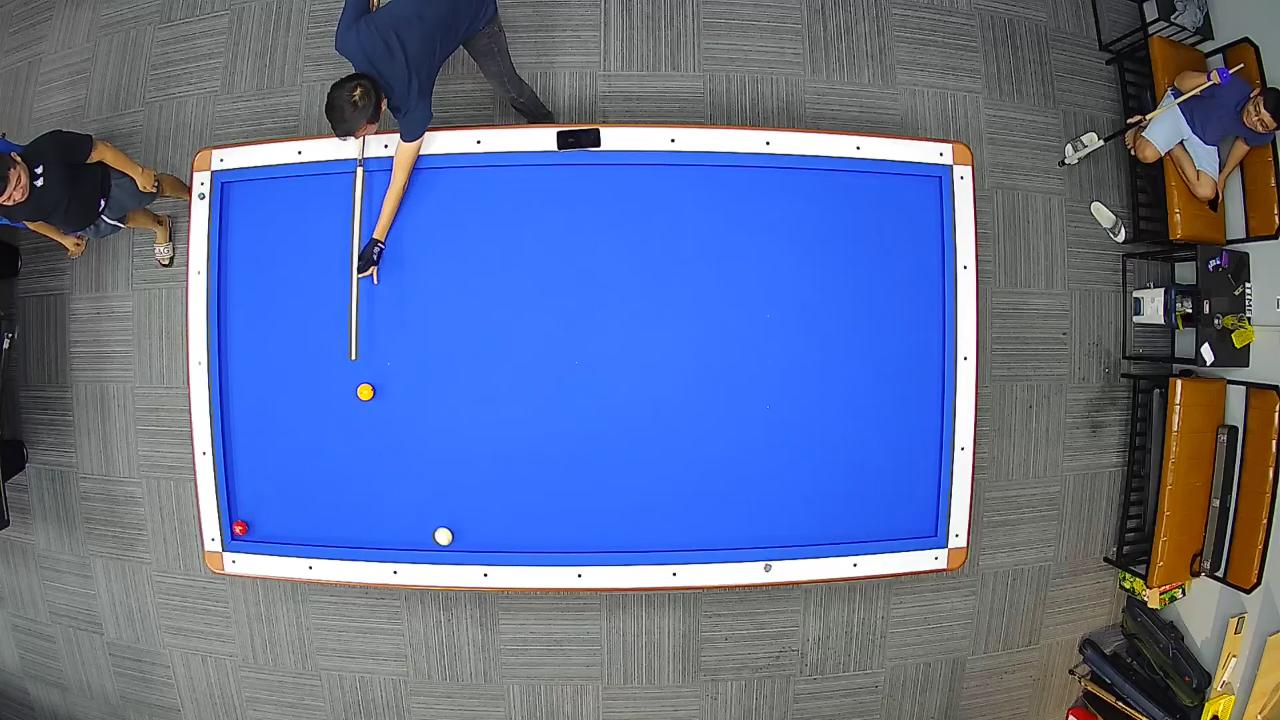Red: (232, 520, 250, 537)
White: (433, 526, 454, 546)
Yellow: (356, 382, 376, 402)
